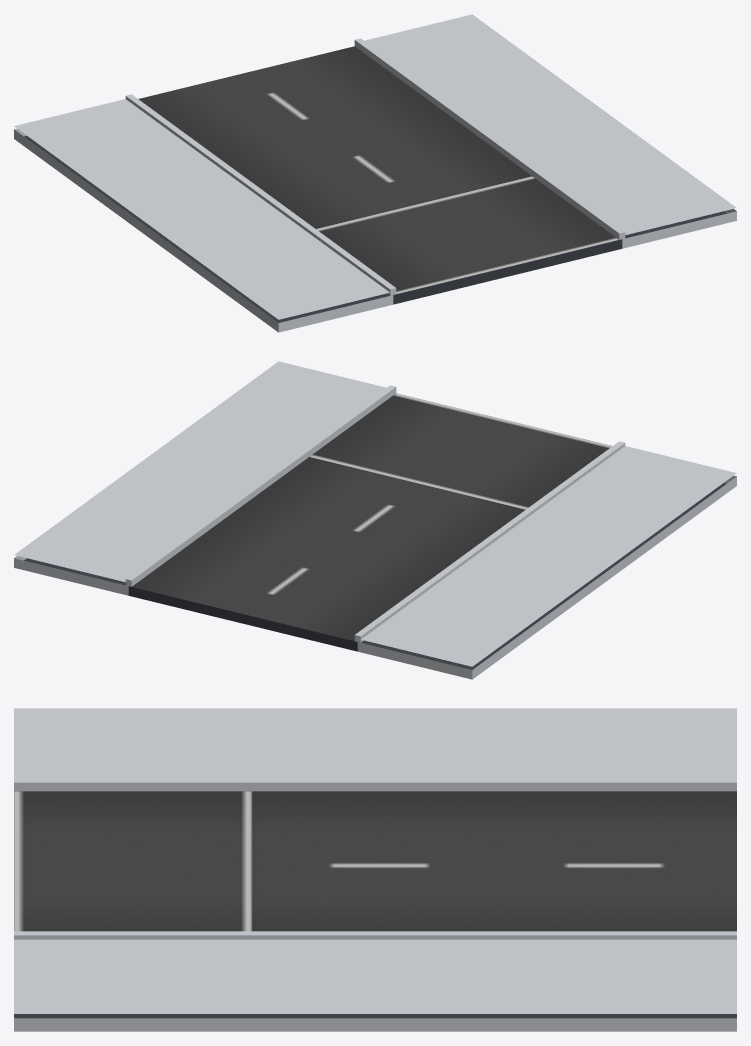
File: road_022_pacote.glb
The picture shows the model from 3 angles, top to bottom: view 1: azimuth 30°, elevation 25°; view 2: azimuth 150°, elevation 25°; view 3: azimuth 270°, elevation 25°; orthographic projection. The views are drawn at different scales.
Parts seen in each view (by area): view 1: road_022_pacote; view 2: road_022_pacote; view 3: road_022_pacote.
Boxes of the visible parts, x1,y1,x2,y2 form: road_022_pacote: (14, 14, 736, 332); road_022_pacote: (14, 361, 736, 679); road_022_pacote: (14, 708, 736, 1031).
Bounding box in the file's own units: 15 × 0.5 × 15.
Materials: 2 (2 with a texture image).
